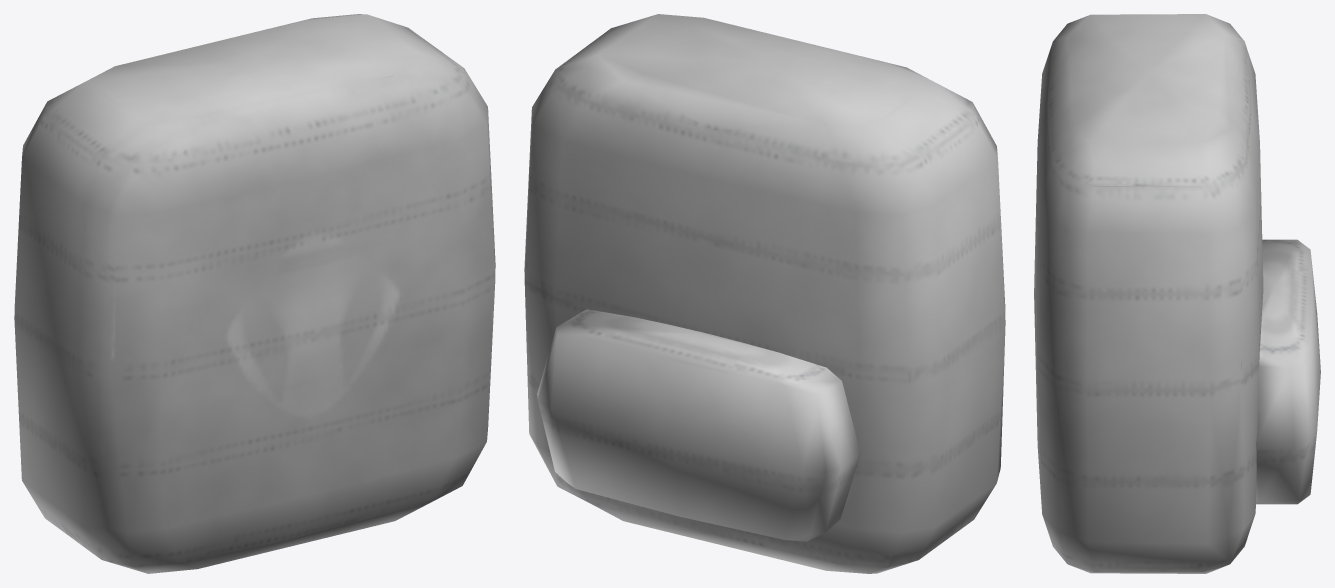
File: UpperTorso_C1.fbx
3 renders of one model, left to right at view 1: azimuth 30°, elevation 25°; view 2: azimuth 150°, elevation 25°; view 3: azimuth 270°, elevation 25°, orthographic. The views are drawn at different scales.
Visible parts, largest first — view 1: Civ_Mochila_UpperTorso_C1; view 2: Civ_Mochila_UpperTorso_C1; view 3: Civ_Mochila_UpperTorso_C1.
Boxes of the visible parts, x1,y1,x2,y2 form: Civ_Mochila_UpperTorso_C1: [14, 14, 495, 573]; Civ_Mochila_UpperTorso_C1: [524, 14, 1005, 573]; Civ_Mochila_UpperTorso_C1: [1034, 14, 1320, 573].
Size of the model in its own units: 1.44 by 1.53 by 0.8929.
